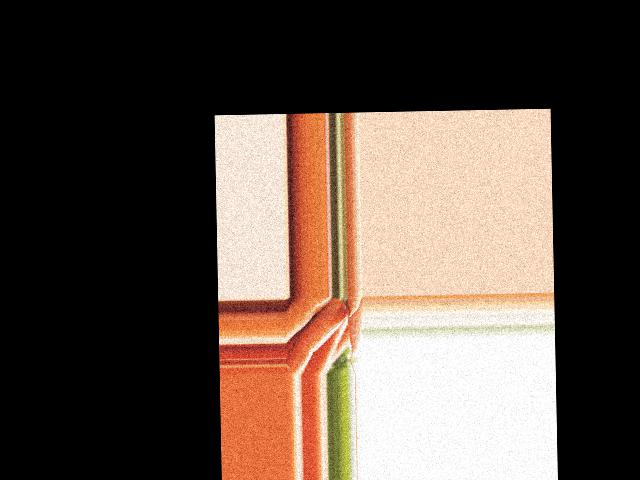carrot: (310, 314, 353, 367)
